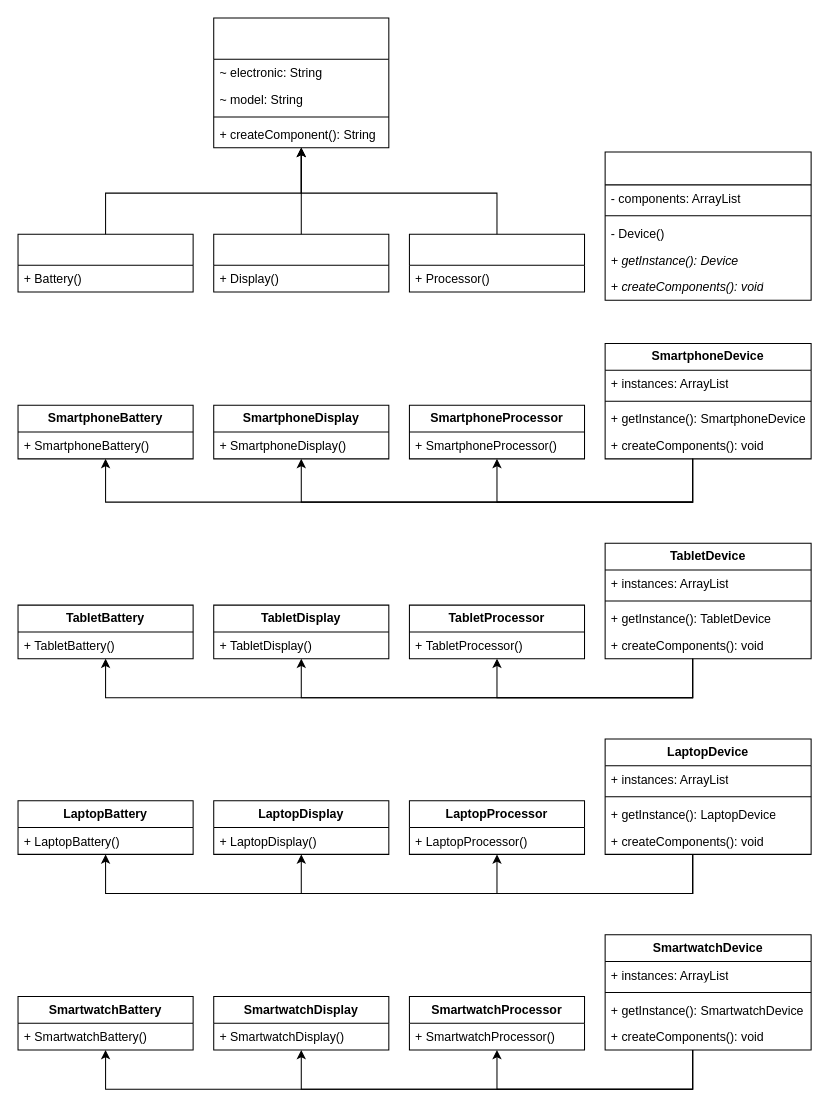
Image size: 829x1115. Some labels were removed from this diagram. The shapes that lost their labels are listed below. From the top down, each one's box as (x1, y1, x2, y2) in pixels, then its label:
(213, 17, 389, 148): <<Abstract>> Component
(604, 151, 811, 300): <<Abstract>> Device
(17, 233, 193, 292): <<Abstract>> Battery
(213, 233, 389, 292): <<Abstract>> Display
(408, 233, 585, 292): <<Abstract>> Processor
